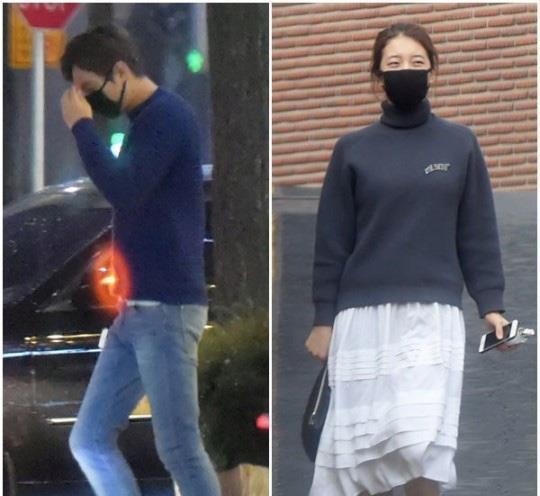OK: (376, 43, 434, 108), (75, 65, 131, 120)
